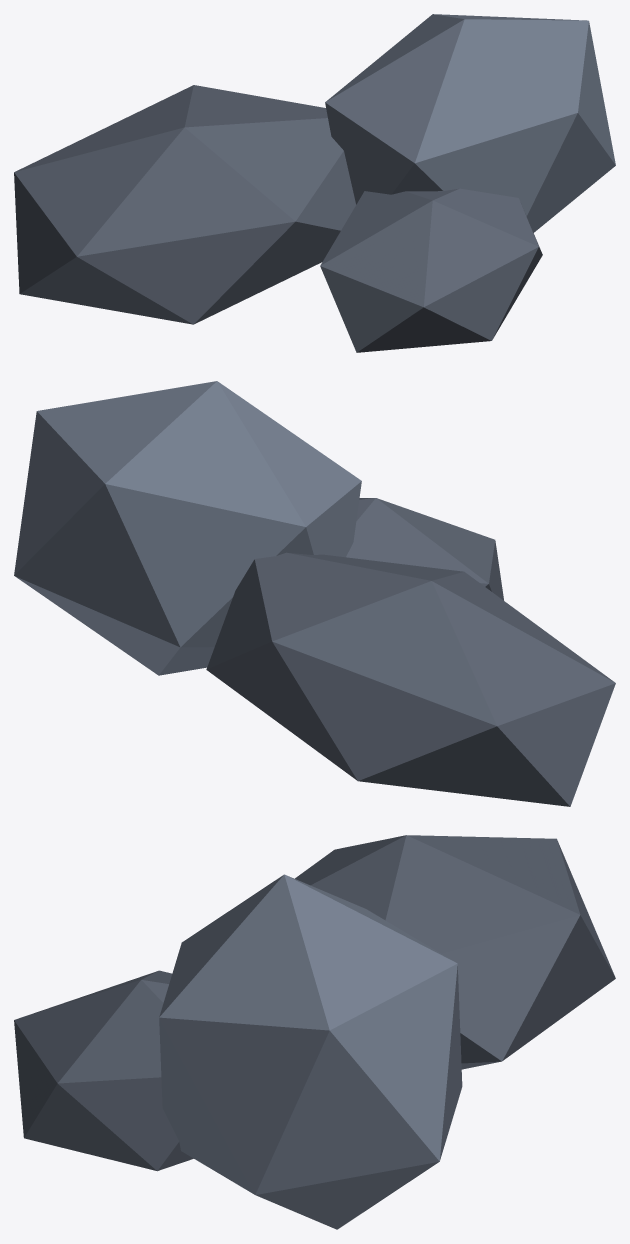
The model's file is EXTW_SouthCluster_03.glb.
The picture shows the model from 3 angles, top to bottom: view 1: azimuth 30°, elevation 25°; view 2: azimuth 150°, elevation 25°; view 3: azimuth 270°, elevation 25°; orthographic projection. The views are drawn at different scales.
Parts seen in each view (by area): view 1: EXTW_SouthCluster_03; view 2: EXTW_SouthCluster_03; view 3: EXTW_SouthCluster_03.
Boxes of the visible parts, <box> form: EXTW_SouthCluster_03: <box>14,14,615,352</box>; EXTW_SouthCluster_03: <box>14,381,615,806</box>; EXTW_SouthCluster_03: <box>14,835,615,1229</box>.
Size of the model in its own units: 1.96 by 0.9111 by 1.48.
